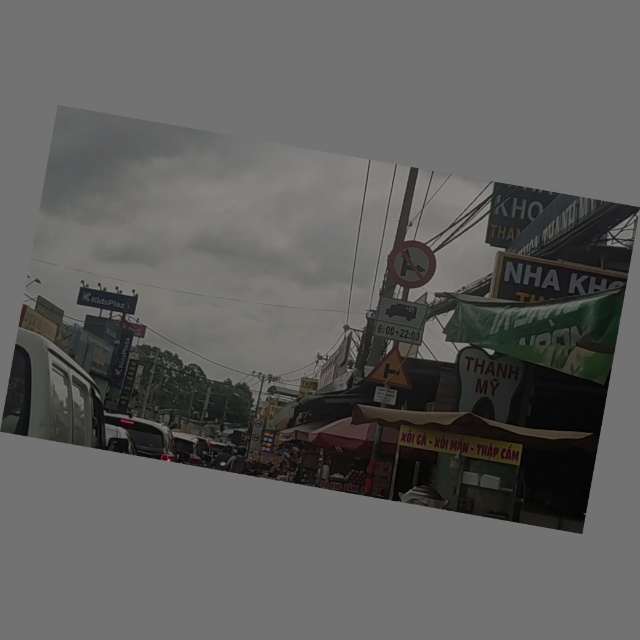P.139: (385, 238, 438, 292)
S.505a*Xe tai: (372, 298, 429, 345)
W.205b: (366, 344, 421, 390)
